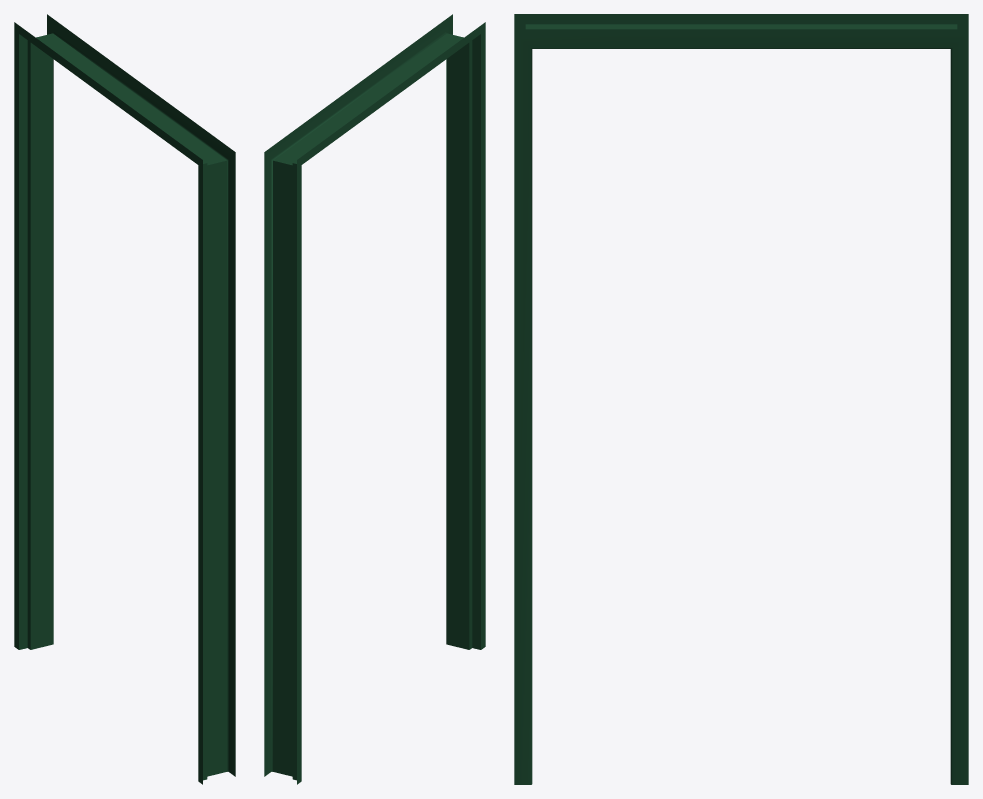
File: door_frame_int.fbx
The picture shows the model from 3 angles, left to right: view 1: azimuth 30°, elevation 25°; view 2: azimuth 150°, elevation 25°; view 3: azimuth 270°, elevation 25°; orthographic projection. The views are drawn at different scales.
Visible parts, largest first — view 1: door_frame_int; view 2: door_frame_int; view 3: door_frame_int.
Boxes of the visible parts, x1=… form: door_frame_int: x1=14, y1=14, x2=235, y2=784; door_frame_int: x1=264, y1=14, x2=485, y2=784; door_frame_int: x1=514, y1=14, x2=968, y2=784.
Bounding box in the file's own units: 12 × 220 × 121.
